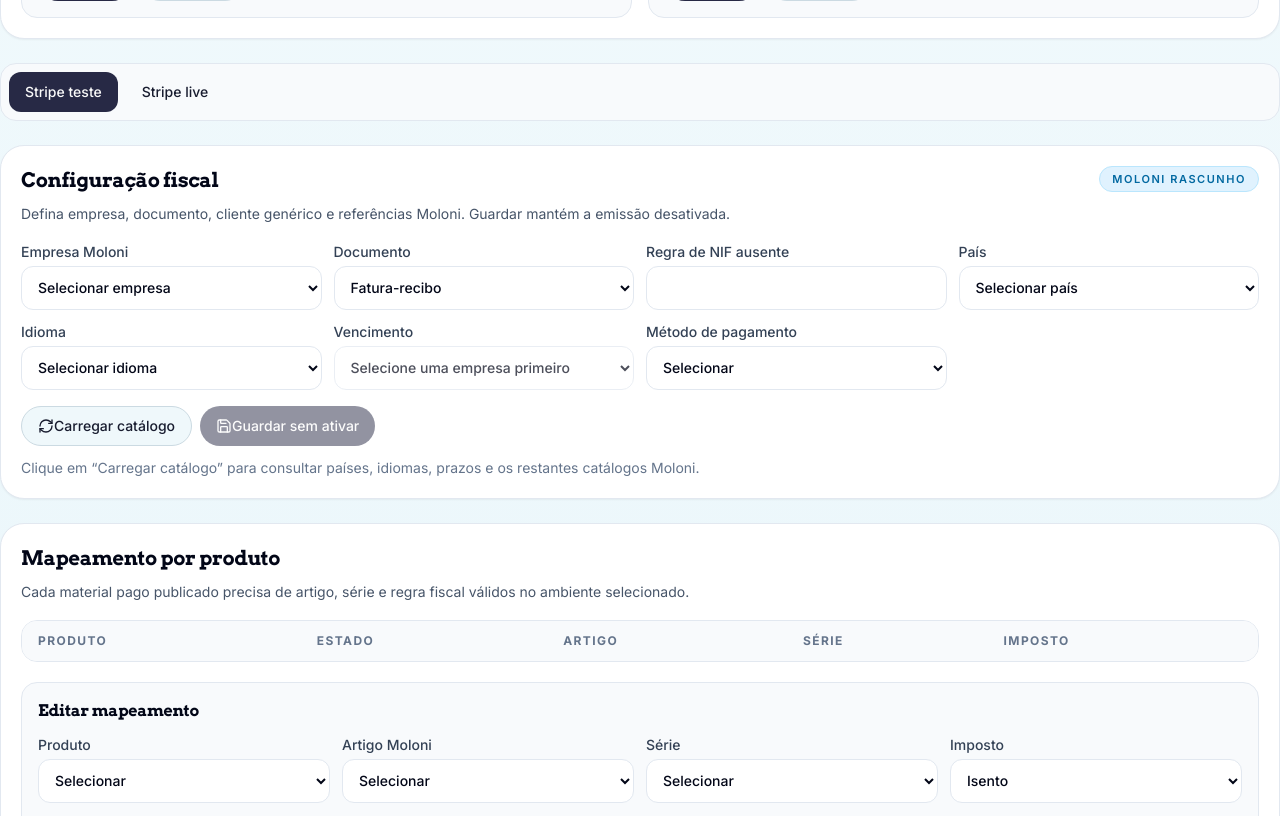
Test: AdminMoloni › renders readable catalog selectors and suggests Portugal, Portuguese and immediate payment
This screenshot has width=1280, height=816.
(page scrolled)
Click the button "Carregar catálogo". click: [106, 426]
box: [21,406,192,446]
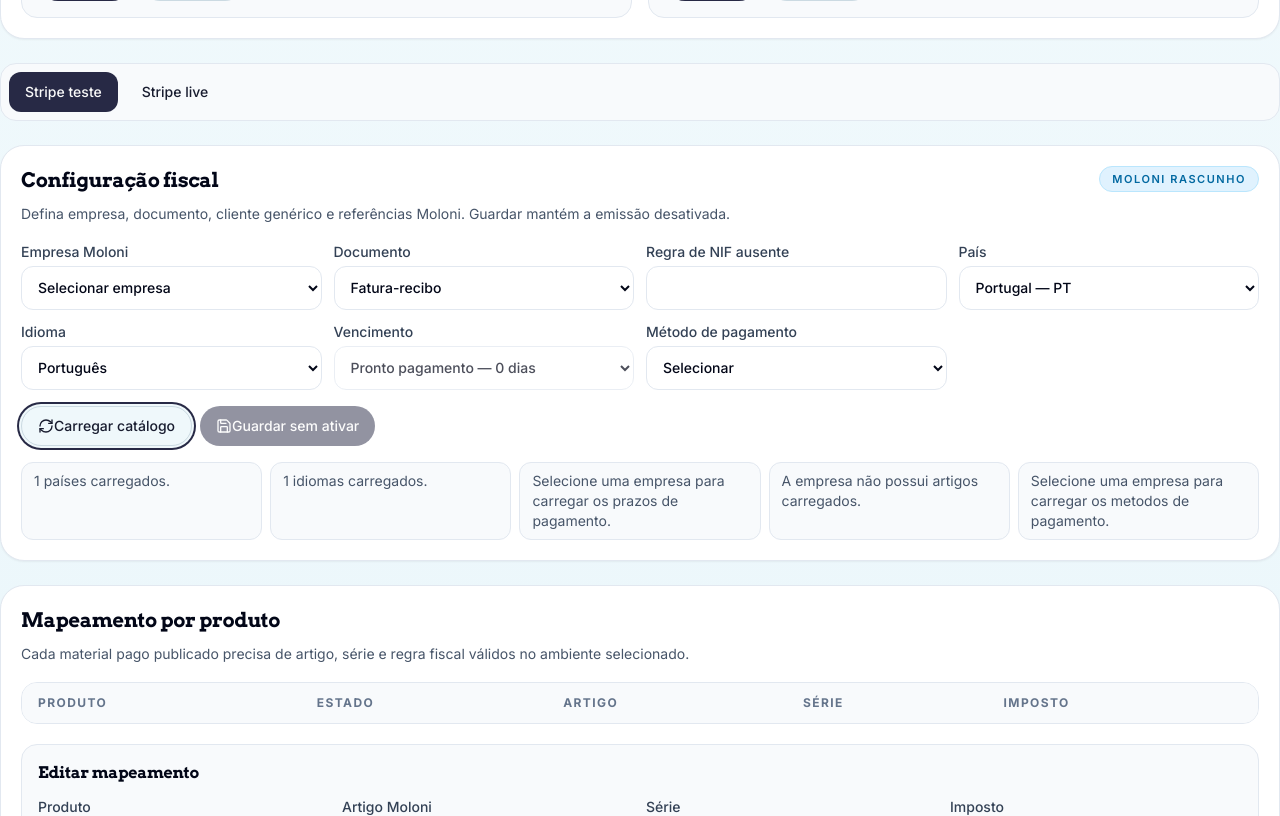
Check: the dropdown named "País Moloni" shows "Portugal — PT", box [958,266,1259,310]
Check: the dropdown named "Idioma Moloni" shows "Português", box [21,346,322,390]
Check: the dropdown named "Vencimento Moloni" shows "Pronto pagamento — 0 dias", box [334,346,634,390]
